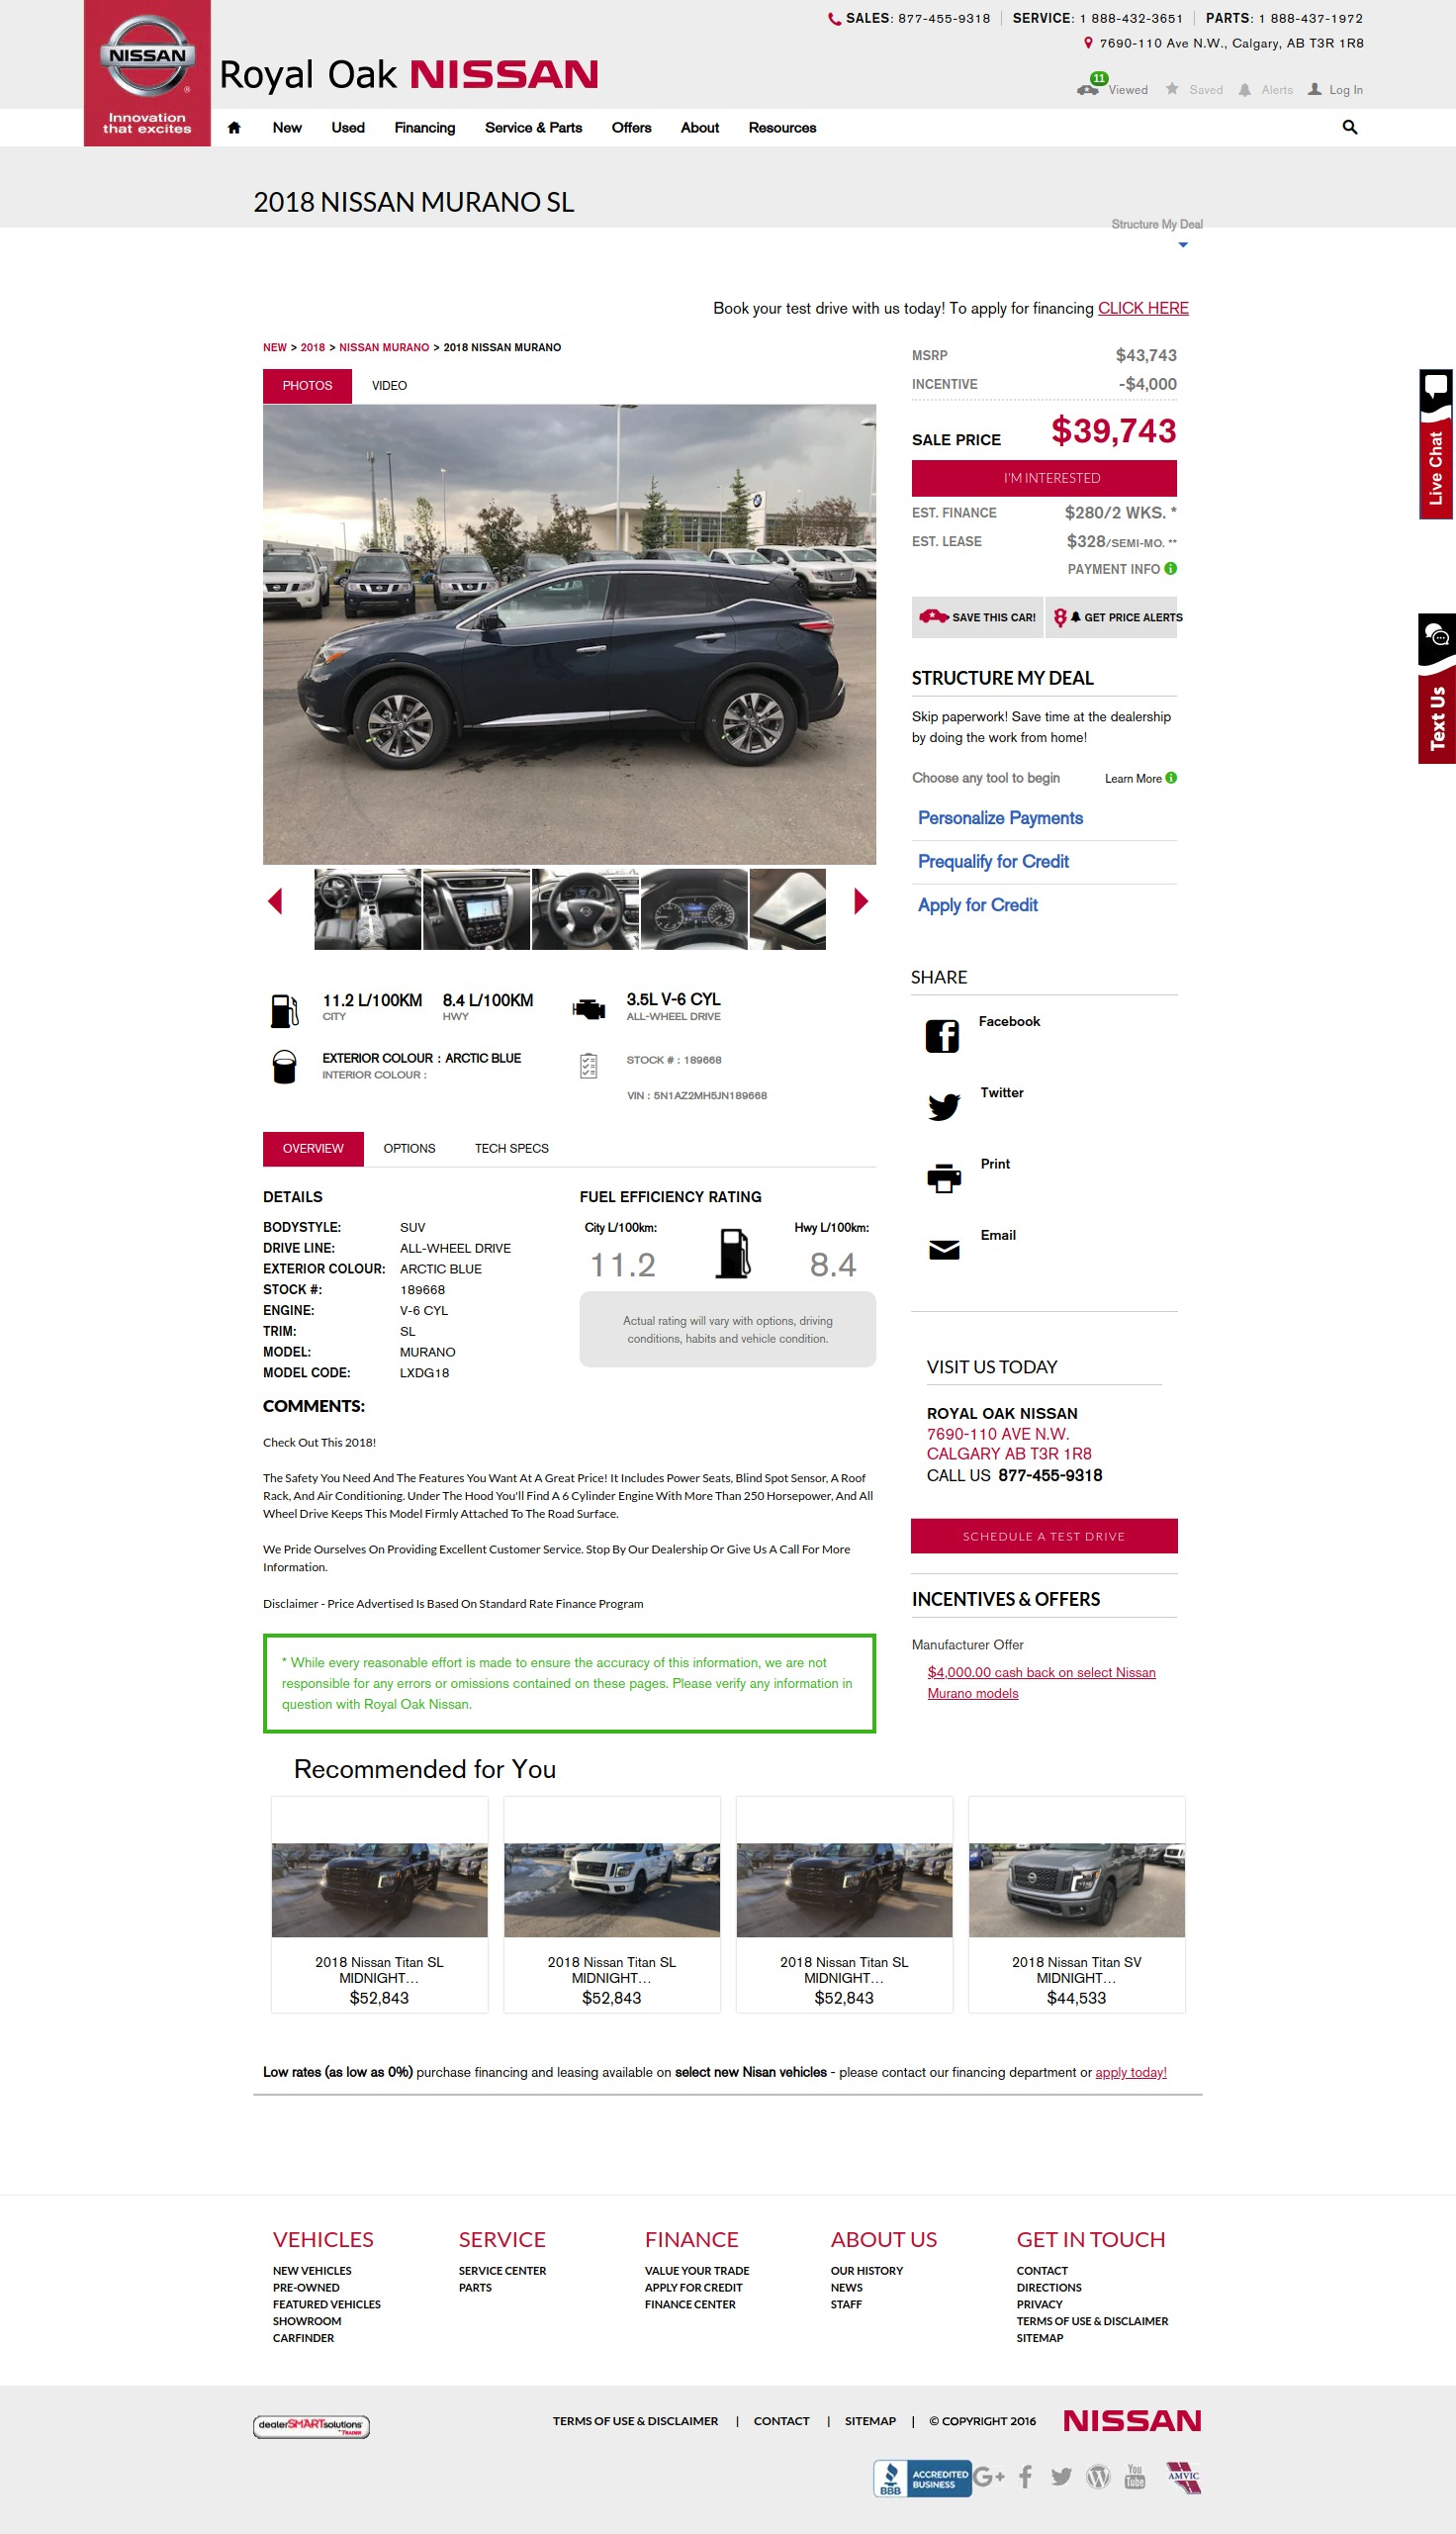car: (854, 888, 870, 917)
